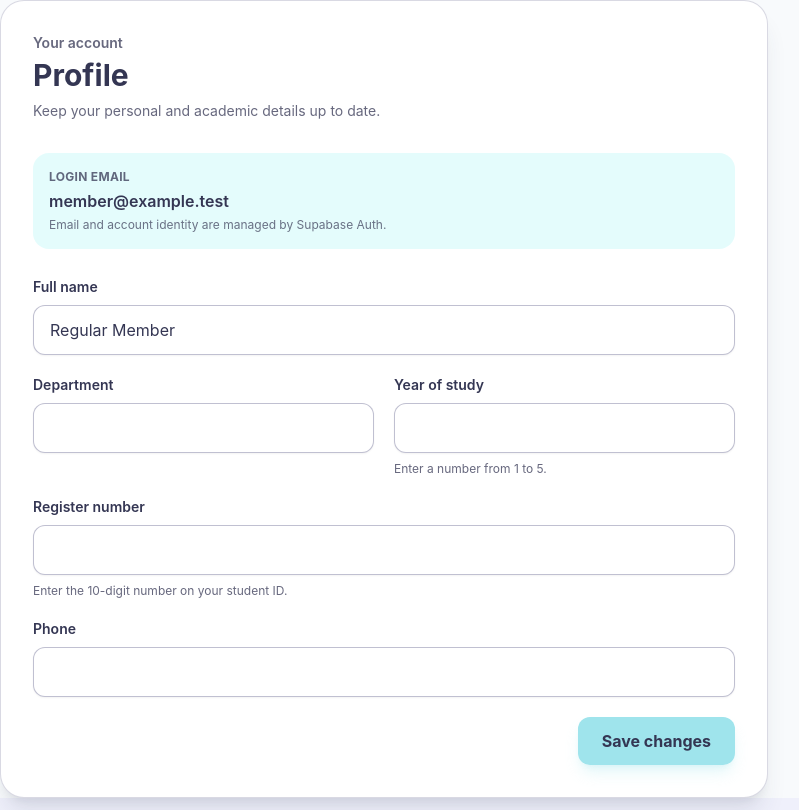
Scenario: profile form › shows validation errors without updating
The width and height of the screenshot is (799, 810).
Clear the field labelled "Full name": (384, 330) [33,305,735,355]
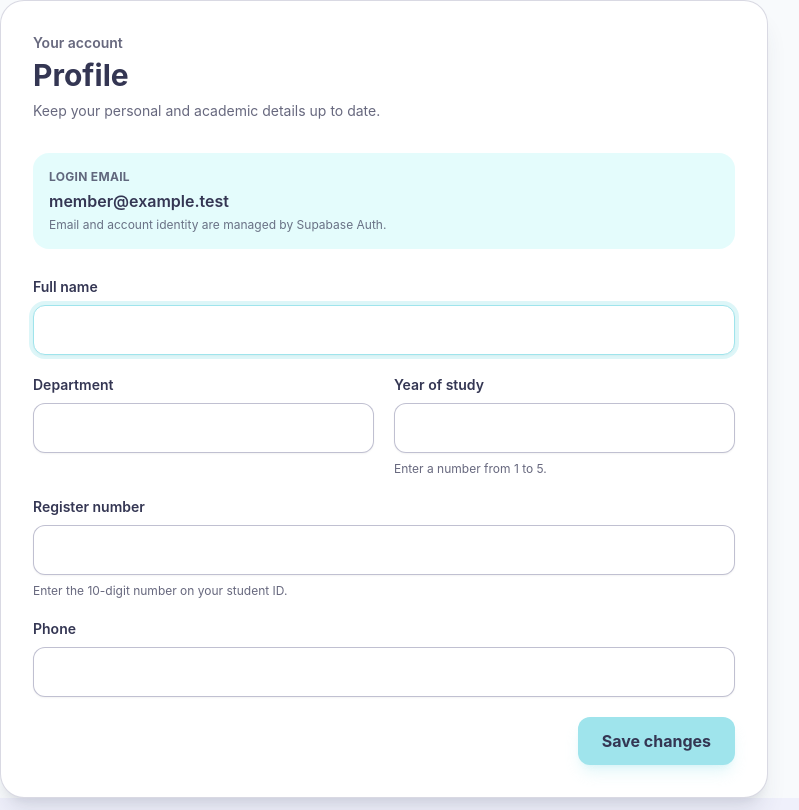
Click the button "Save changes": (656, 741) [578,717,735,765]
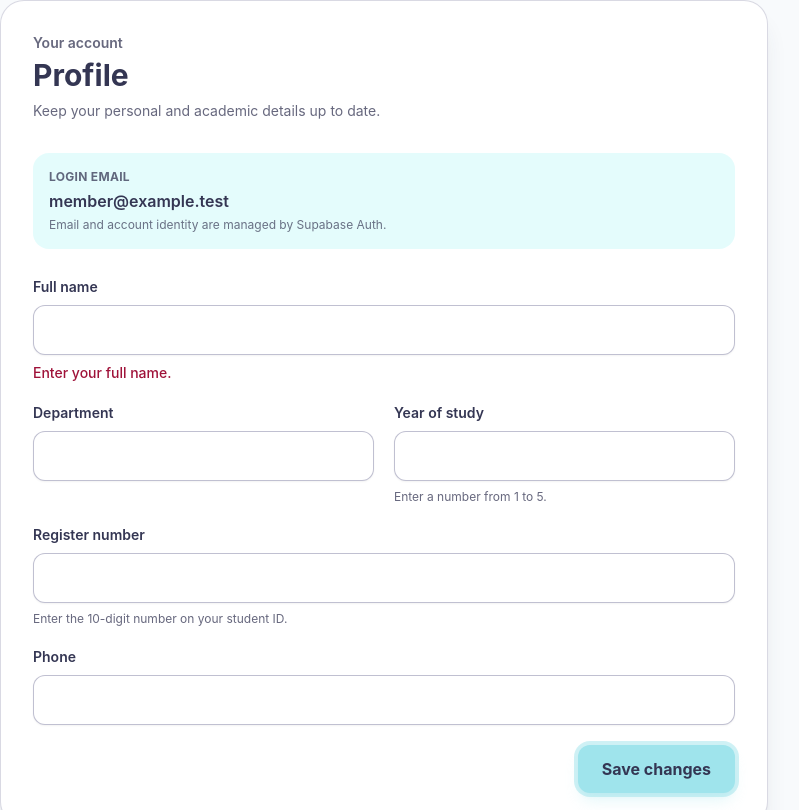
Expected: the text "Enter your full name." is shown, [33,364,172,381]
